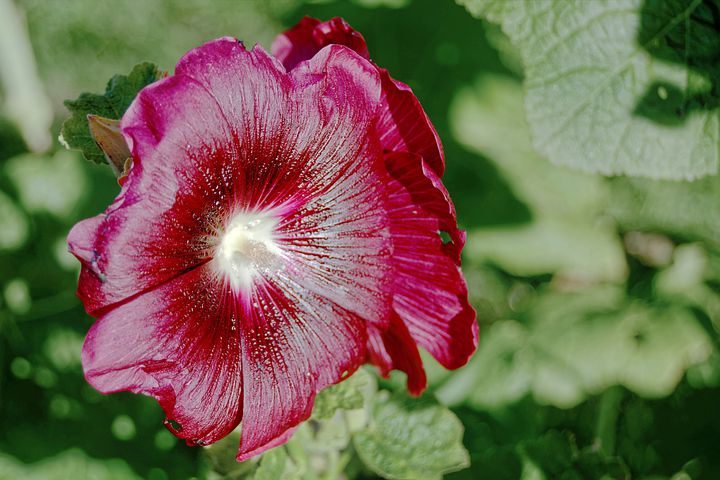Hibiscus: (66, 22, 512, 462)
